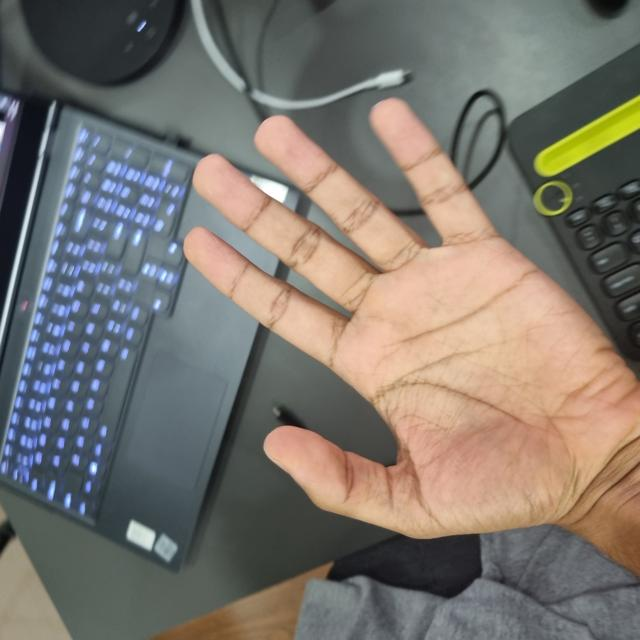Paper: (102, 186, 540, 640)
